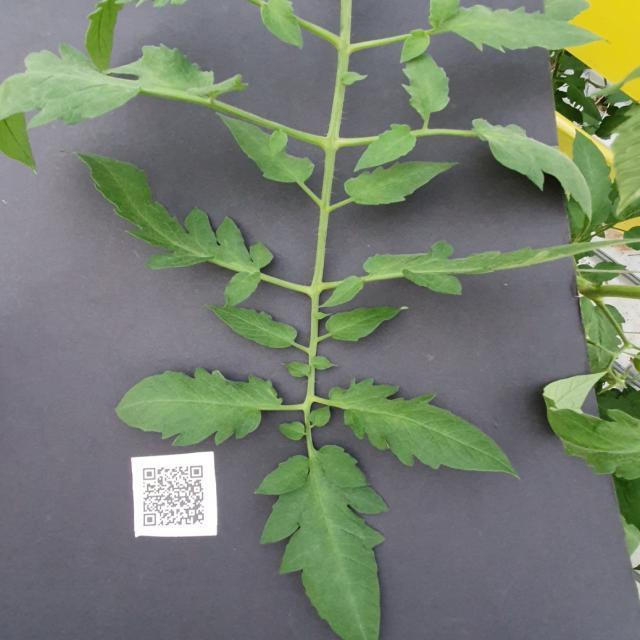Healthy: (74, 153, 274, 311), (256, 443, 389, 640), (327, 377, 520, 482), (115, 365, 283, 447), (472, 117, 593, 224), (427, 0, 602, 53), (214, 110, 315, 185), (344, 160, 458, 205), (201, 300, 298, 349), (402, 53, 453, 117), (326, 304, 408, 342)
